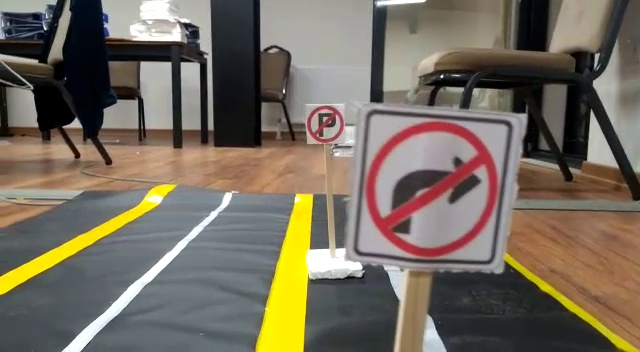park_yapilmaz: (305, 103, 346, 143)
saga_donulmez: (368, 117, 494, 259)
